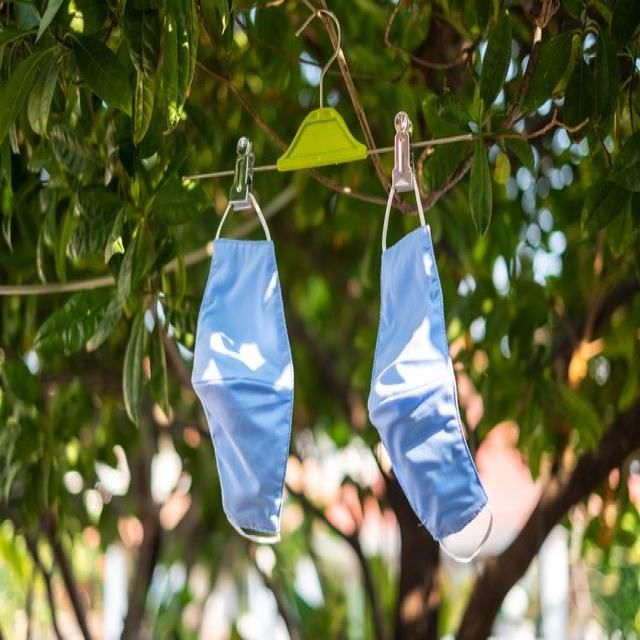non-organic waste: (354, 152, 498, 566), (196, 175, 295, 538)
